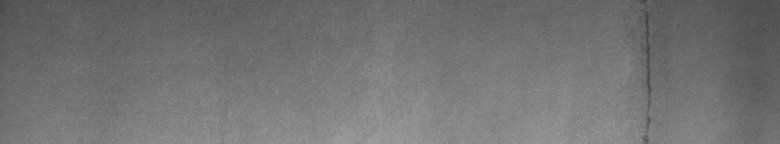ka: (640, 9, 658, 136)
